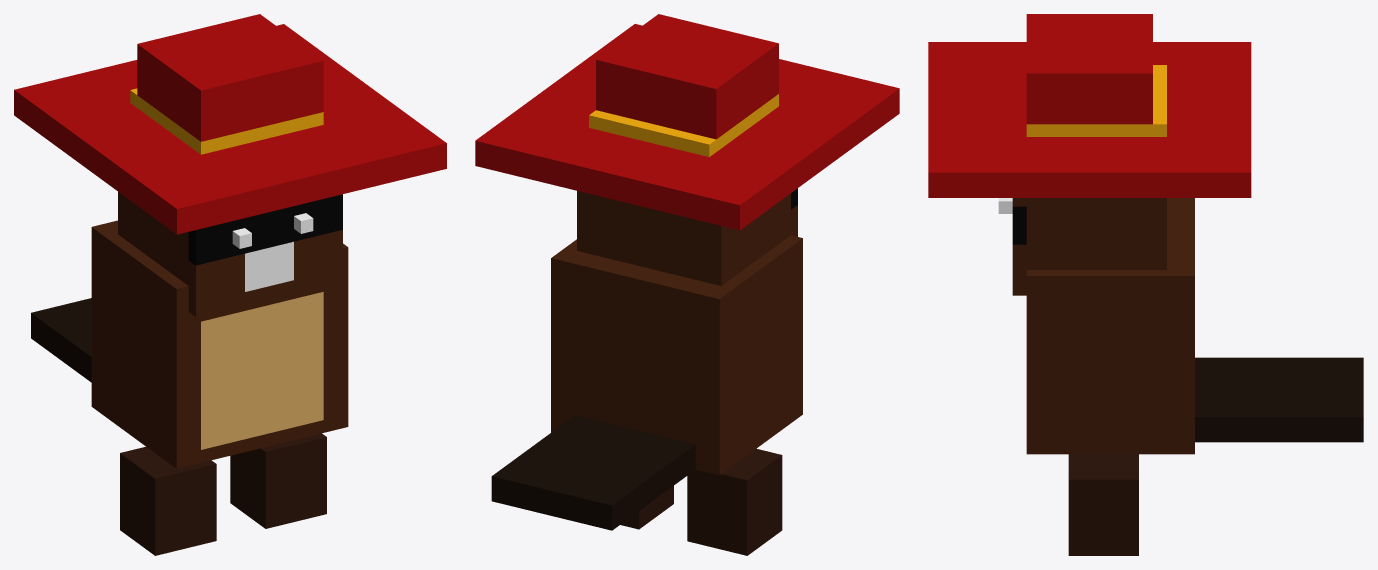
The model's file is bandito_bobritto.glb.
3 renders of one model, left to right at view 1: azimuth 30°, elevation 25°; view 2: azimuth 150°, elevation 25°; view 3: azimuth 270°, elevation 25°, orthographic.
Visible parts, largest first — view 1: brainrot; view 2: brainrot; view 3: brainrot.
Boxes of the visible parts, bbox=[...] form: brainrot: bbox=[14, 14, 446, 555]; brainrot: bbox=[475, 14, 899, 555]; brainrot: bbox=[928, 14, 1363, 555].
Size of the model in its own units: 2.44 by 4.1 by 3.44.
1 material, 1 textured.
